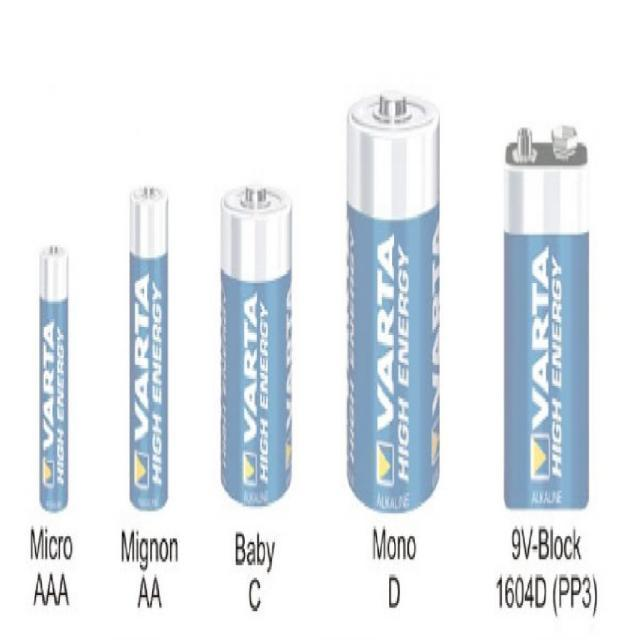Hazard: (338, 87, 448, 516), (500, 126, 590, 514), (218, 186, 292, 508), (128, 180, 170, 514), (34, 240, 73, 515)
